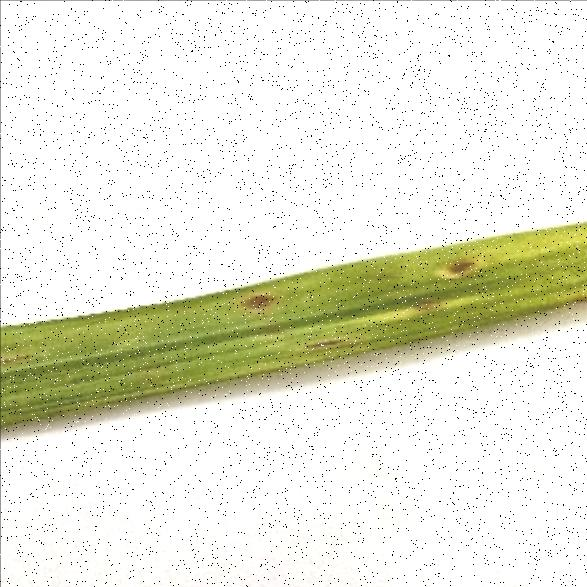Leaf_smut: (227, 239, 493, 364)
